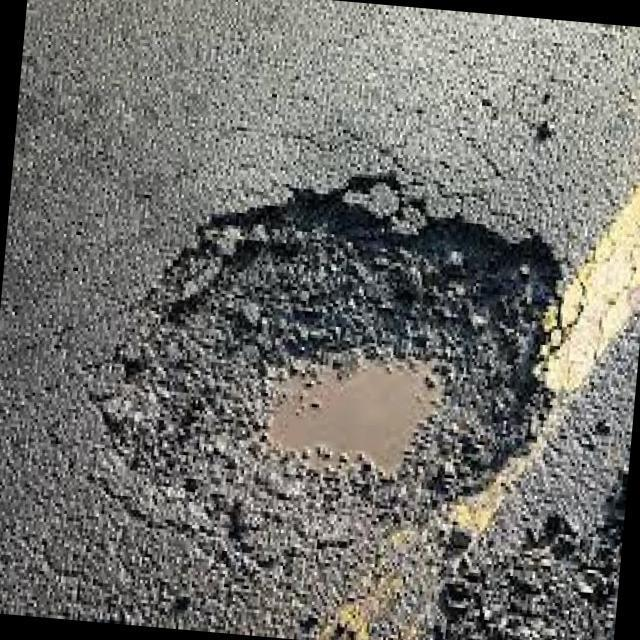Pothole: (129, 172, 561, 511)
